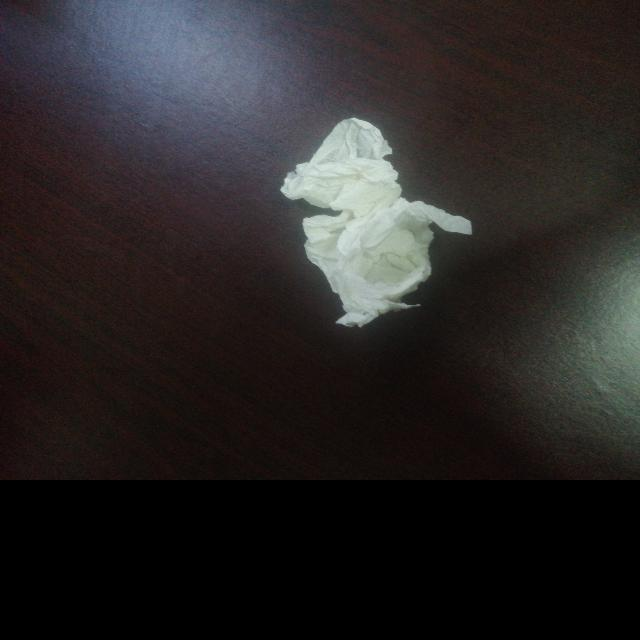kitchen paper: (277, 111, 478, 334)
